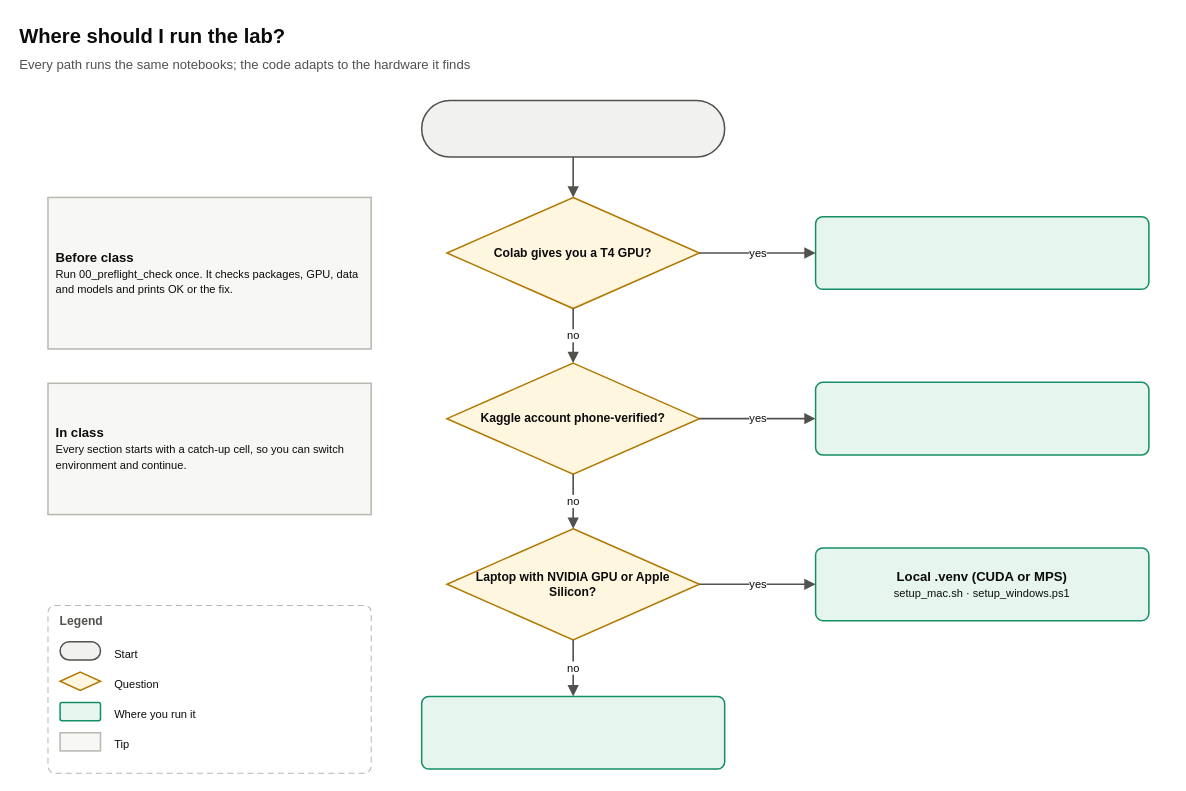
Some shapes in this 1186 by 791 pixel diagram are drawn without their labels. Each missing label, with the centre of its shape:
FAST mode on CPU, or pair up ResNet-18 @ 160 px · data subset: the point at 572,732
Google Colab (primary) GPU profile: ResNet-50, full data: the point at 981,252
Kaggle Notebooks (backup) Accelerator GPU T4 · Internet On: the point at 981,418
Start: open the lecture notebook: the point at 572,128
